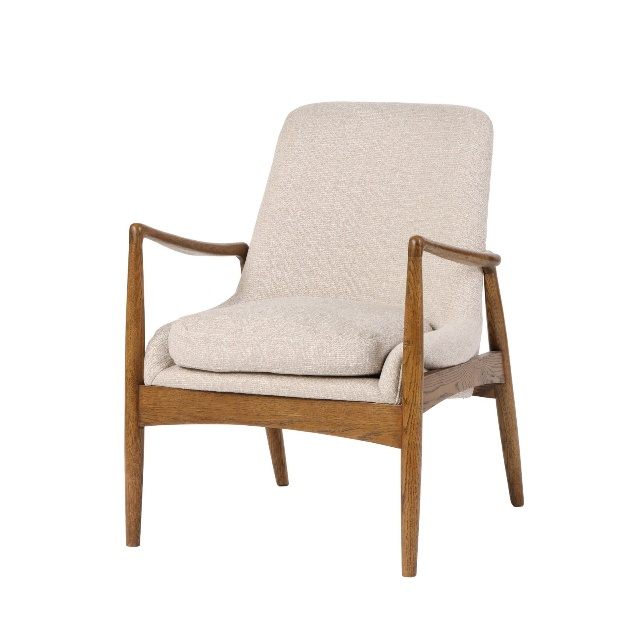obstacle: (125, 102, 522, 576)
